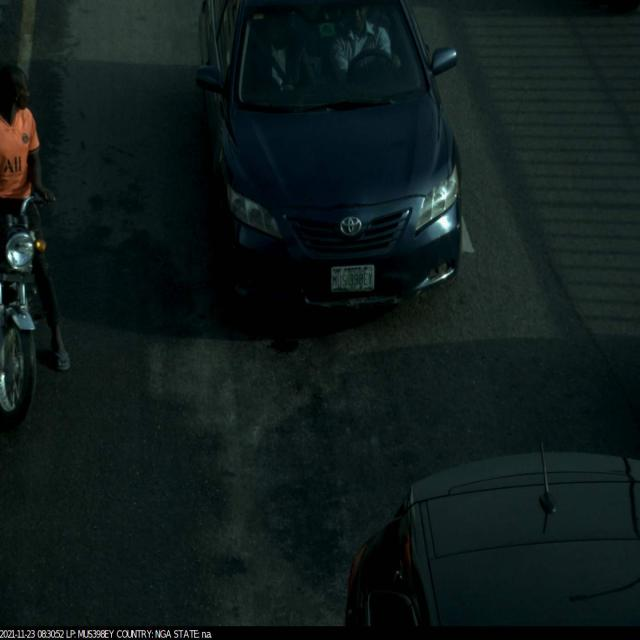windshield: (236, 0, 434, 116)
